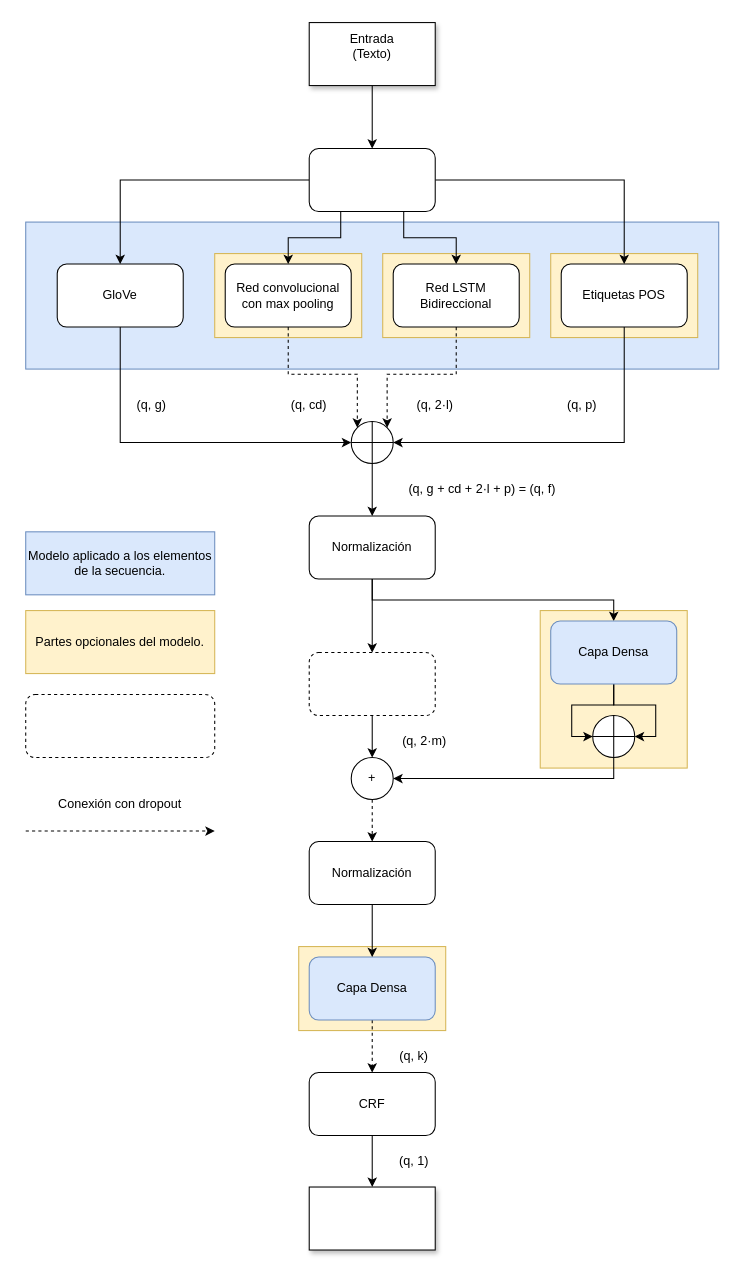
The diagram is 737 pixels wide and 1276 high, and some of its shapes have lost their labels. The centre of each missing label's shape, as x and y in pixels:
"LSTM Bidireccional" belongs at pixel 371 684.
"Modelo con regulariación y dropout interno." belongs at pixel 120 726.
"Salida (Etiquetas)" belongs at pixel 373 1219.
"Tokenización y procesamiento" belongs at pixel 371 180.
